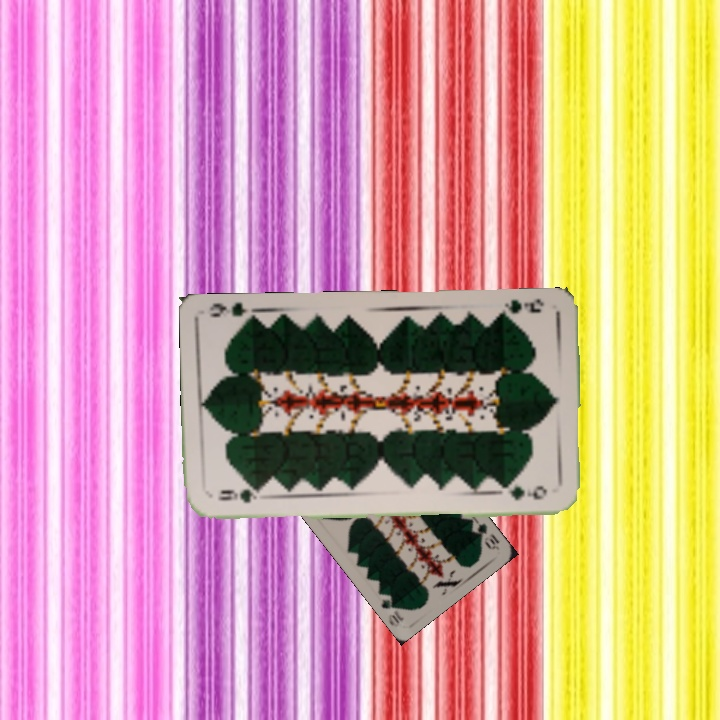G10: (467, 515, 502, 553)
G9: (494, 295, 546, 322), (214, 486, 265, 506)
